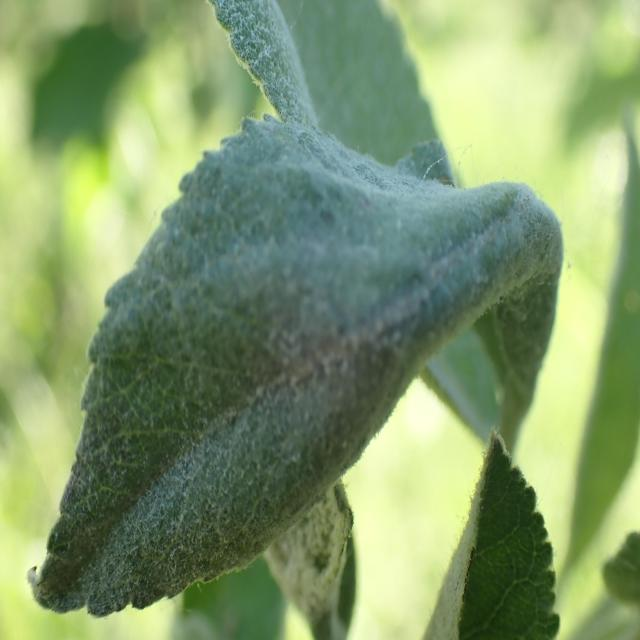Powdery_mildew: (24, 107, 568, 618), (191, 0, 541, 439)
